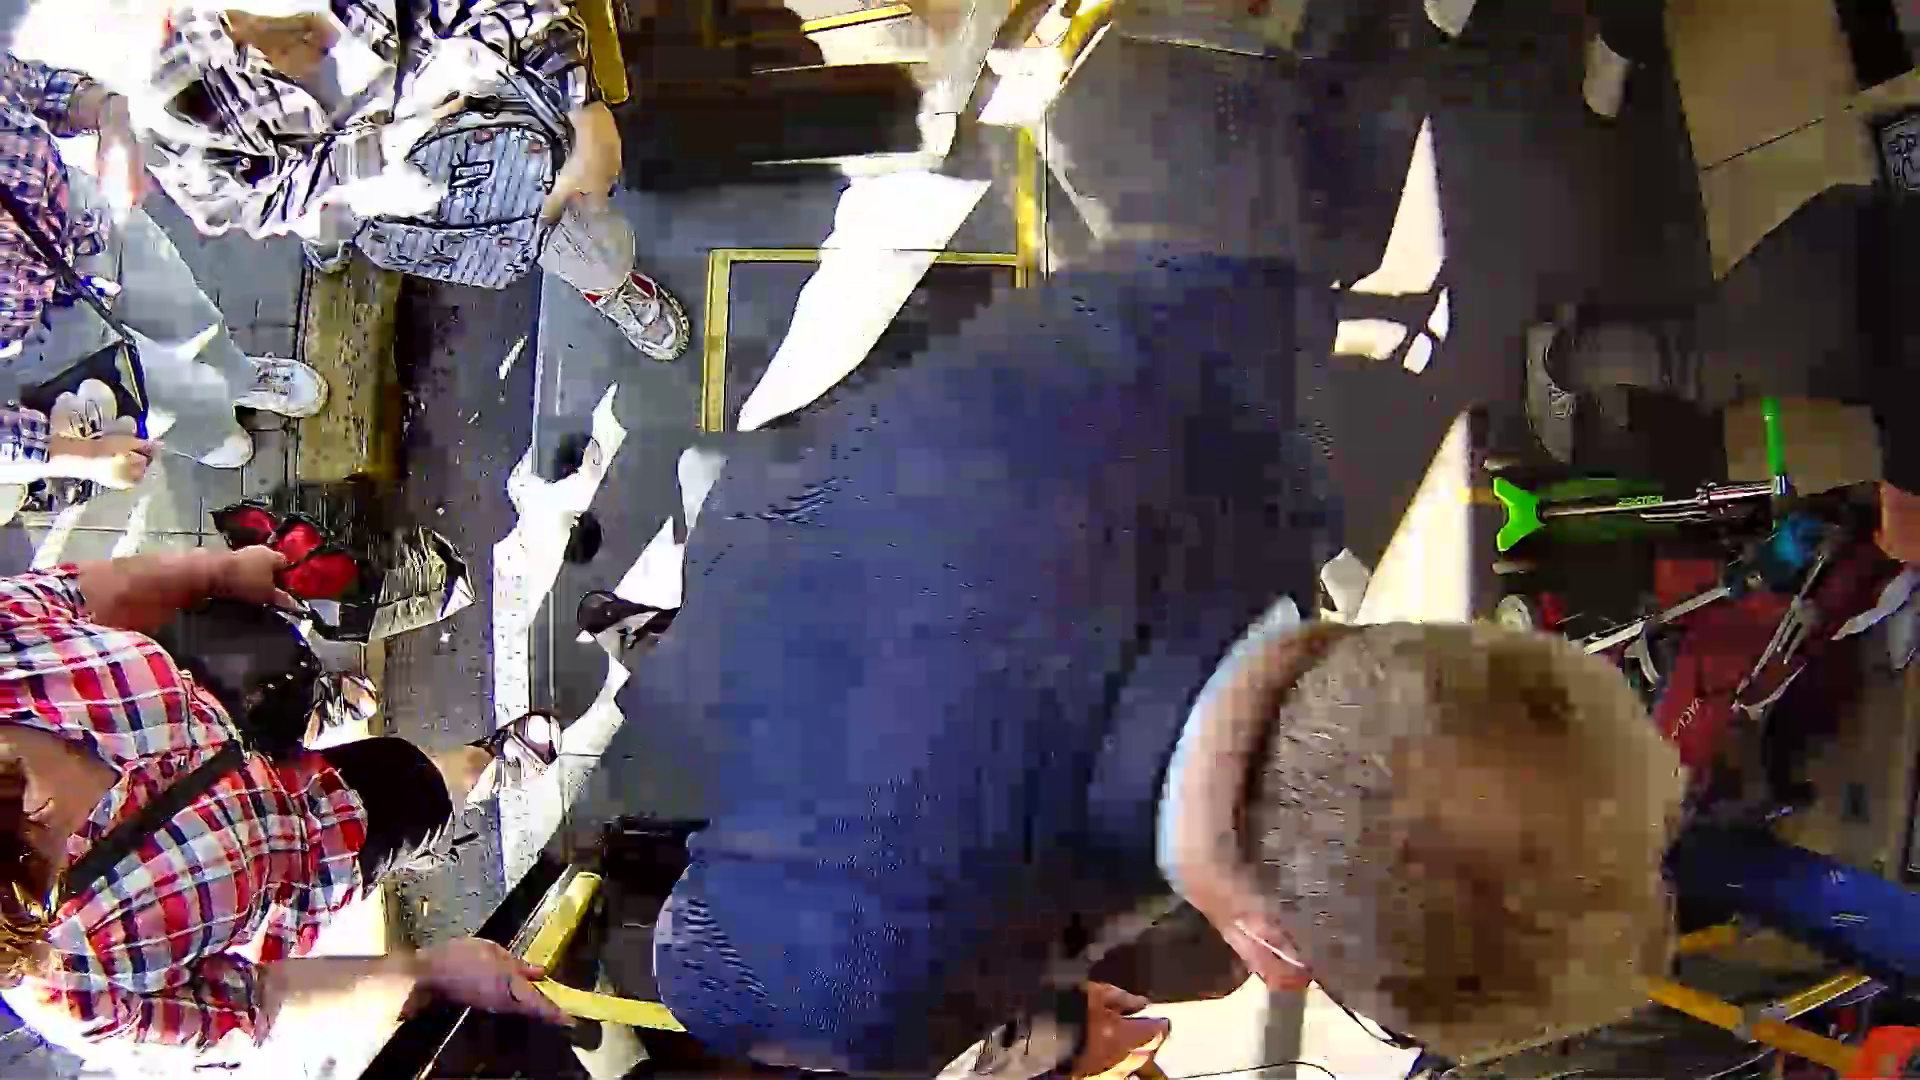person: (632, 217, 1719, 1068)
